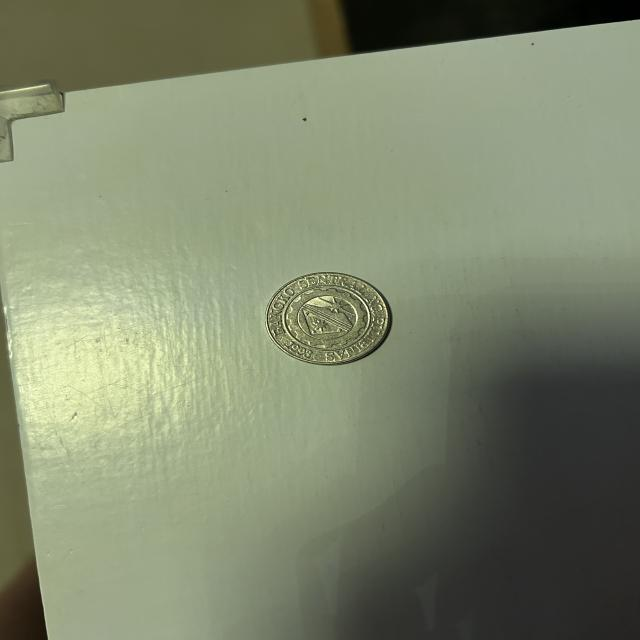1_Old_Back: (276, 283, 376, 352)
